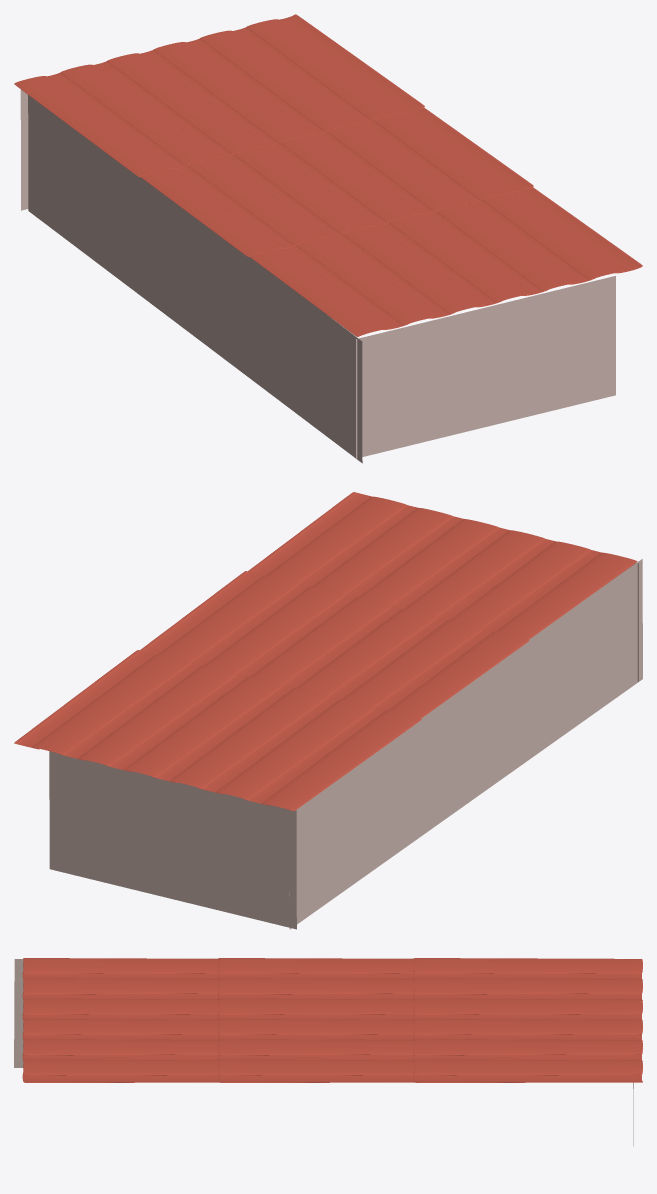
Rendered from RemoteHangar.blend.fbx.
3 views of the same model, one above another, from view 1: azimuth 30°, elevation 25°; view 2: azimuth 150°, elevation 25°; view 3: azimuth 270°, elevation 25° (orthographic). The views are drawn at different scales.
Visible parts, largest first — view 1: RemoteHangarRoof, RemoteHangar.002, RemoteHangar.001, RemoteHangar.004; view 2: RemoteHangarRoof, RemoteHangar.002, RemoteHangar.004; view 3: RemoteHangarRoof, RemoteHangar.002.
Boxes of the visible parts, x1,y1,x2,y2 form: RemoteHangarRoof: (14,14,642,336); RemoteHangar.002: (28,95,362,463); RemoteHangar.001: (356,276,615,458); RemoteHangar.004: (20,89,28,210); RemoteHangarRoof: (14,492,637,811); RemoteHangar.002: (289,559,642,929); RemoteHangar.004: (49,751,296,929); RemoteHangarRoof: (22,958,642,1082); RemoteHangar.002: (14,959,23,1067).
Size of the model in its own units: 2178 by 919 by 4598.
